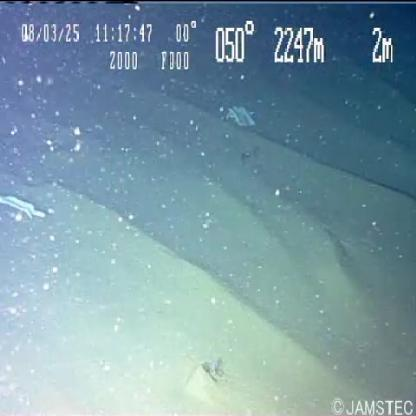Rác: (0, 196, 48, 223)
